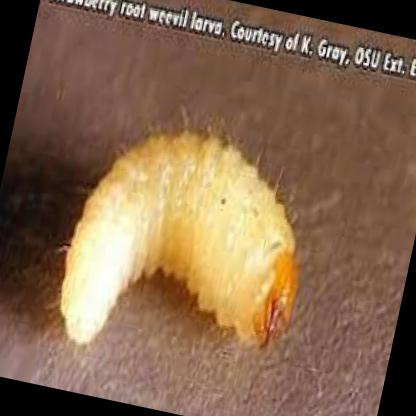root grubs: (65, 128, 294, 345)
